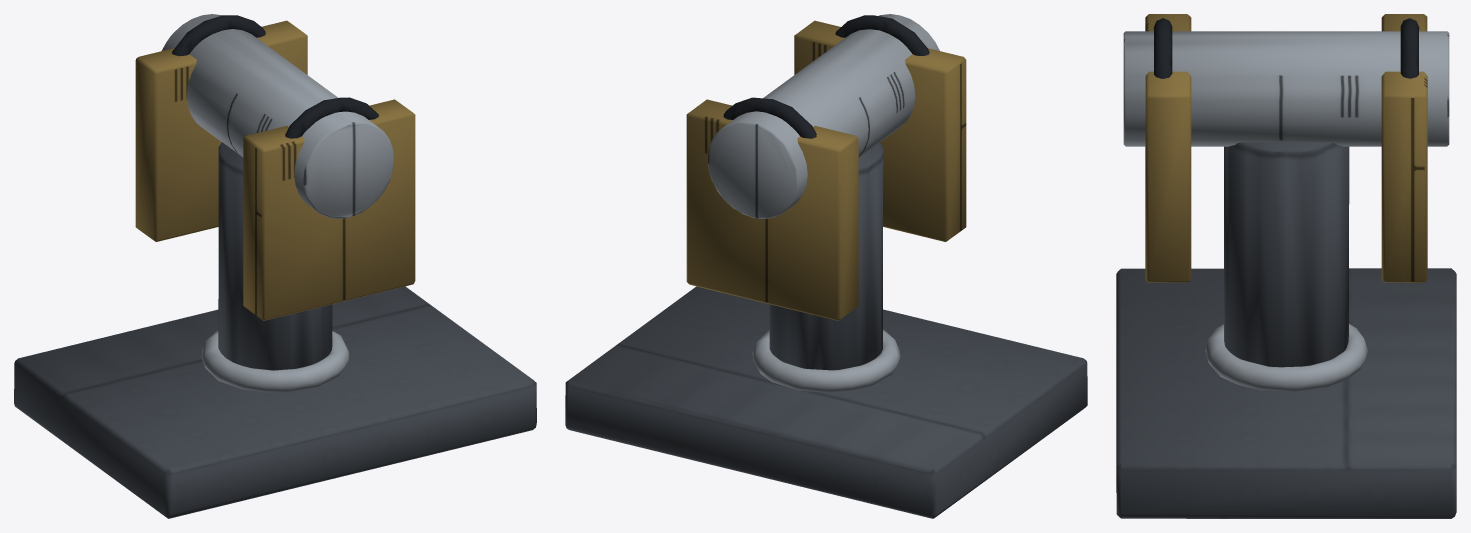
The model's file is ops_solar_hinge_mast_adapter_lod1.glb.
The picture shows the model from 3 angles, left to right: view 1: azimuth 30°, elevation 25°; view 2: azimuth 150°, elevation 25°; view 3: azimuth 270°, elevation 25°; orthographic projection. The views are drawn at different scales.
Visible parts, largest first — view 1: LOD1_Mechanical, LOD1_Hull, LOD1_MOTION_SOLAR_HINGE_BrushedMetal, LOD1_BrushedMetal, LOD1_MechanicalDark; view 2: LOD1_Mechanical, LOD1_Hull, LOD1_MOTION_SOLAR_HINGE_BrushedMetal, LOD1_BrushedMetal, LOD1_MechanicalDark; view 3: LOD1_Mechanical, LOD1_MOTION_SOLAR_HINGE_BrushedMetal, LOD1_Hull, LOD1_BrushedMetal, LOD1_MechanicalDark.
Boxes of the visible parts, x1,y1,x2,y2 form: LOD1_Mechanical: [14, 142, 536, 518]; LOD1_Hull: [135, 20, 415, 320]; LOD1_MOTION_SOLAR_HINGE_BrushedMetal: [161, 14, 394, 218]; LOD1_BrushedMetal: [201, 330, 349, 392]; LOD1_MechanicalDark: [172, 15, 378, 138]; LOD1_Mechanical: [565, 142, 1087, 518]; LOD1_Hull: [686, 20, 966, 320]; LOD1_MOTION_SOLAR_HINGE_BrushedMetal: [707, 14, 939, 218]; LOD1_BrushedMetal: [752, 329, 900, 392]; LOD1_MechanicalDark: [723, 15, 929, 138]; LOD1_Mechanical: [1116, 142, 1456, 518]; LOD1_MOTION_SOLAR_HINGE_BrushedMetal: [1123, 31, 1449, 146]; LOD1_Hull: [1145, 14, 1427, 282]; LOD1_BrushedMetal: [1205, 324, 1367, 391]; LOD1_MechanicalDark: [1153, 18, 1419, 78].
Bounding box in the file's own units: 1.8 × 1.67 × 1.3.
5 materials, 5 textured.
